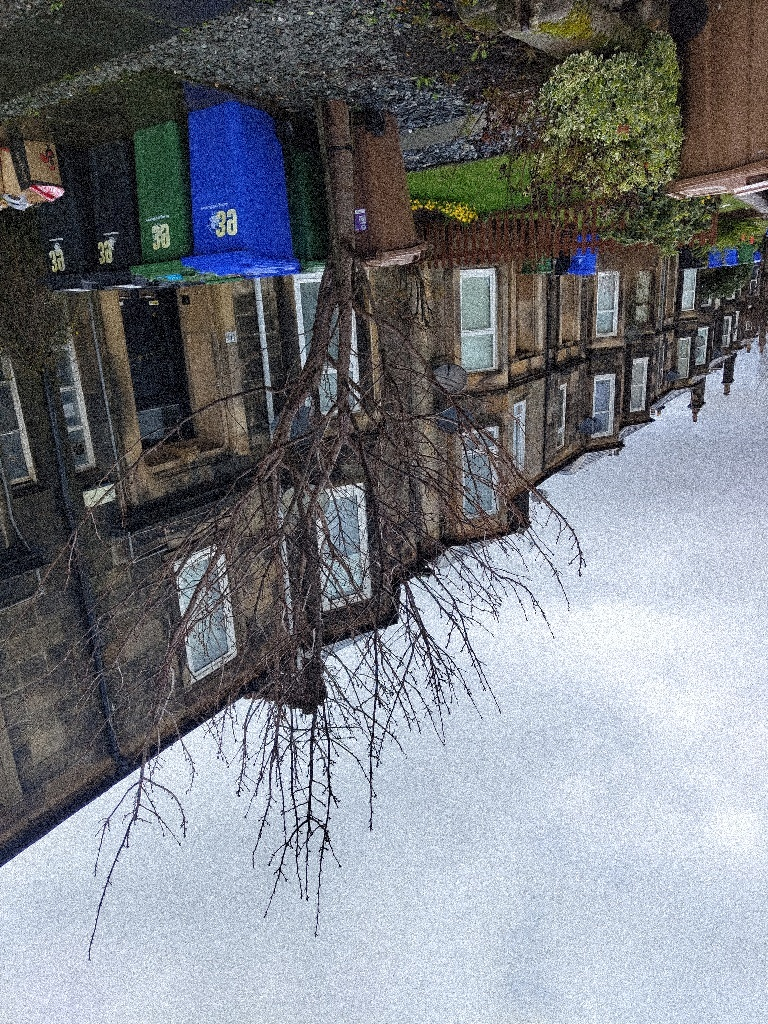Tree: (1, 101, 589, 963)
